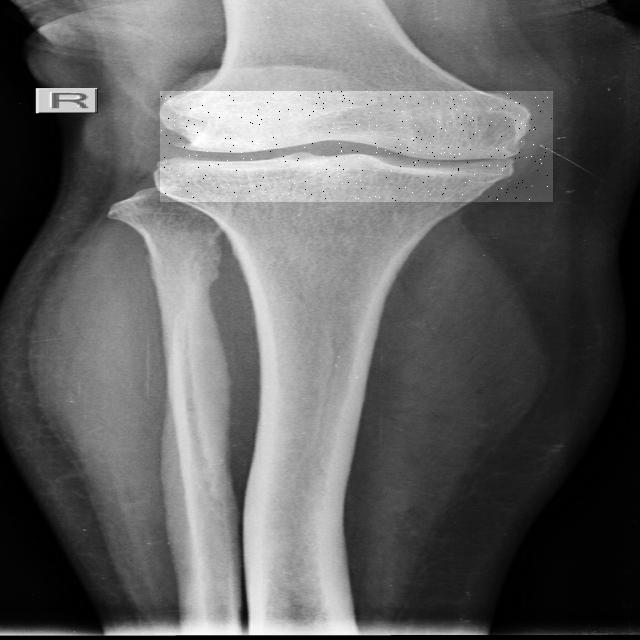normal: (160, 91, 553, 202)
